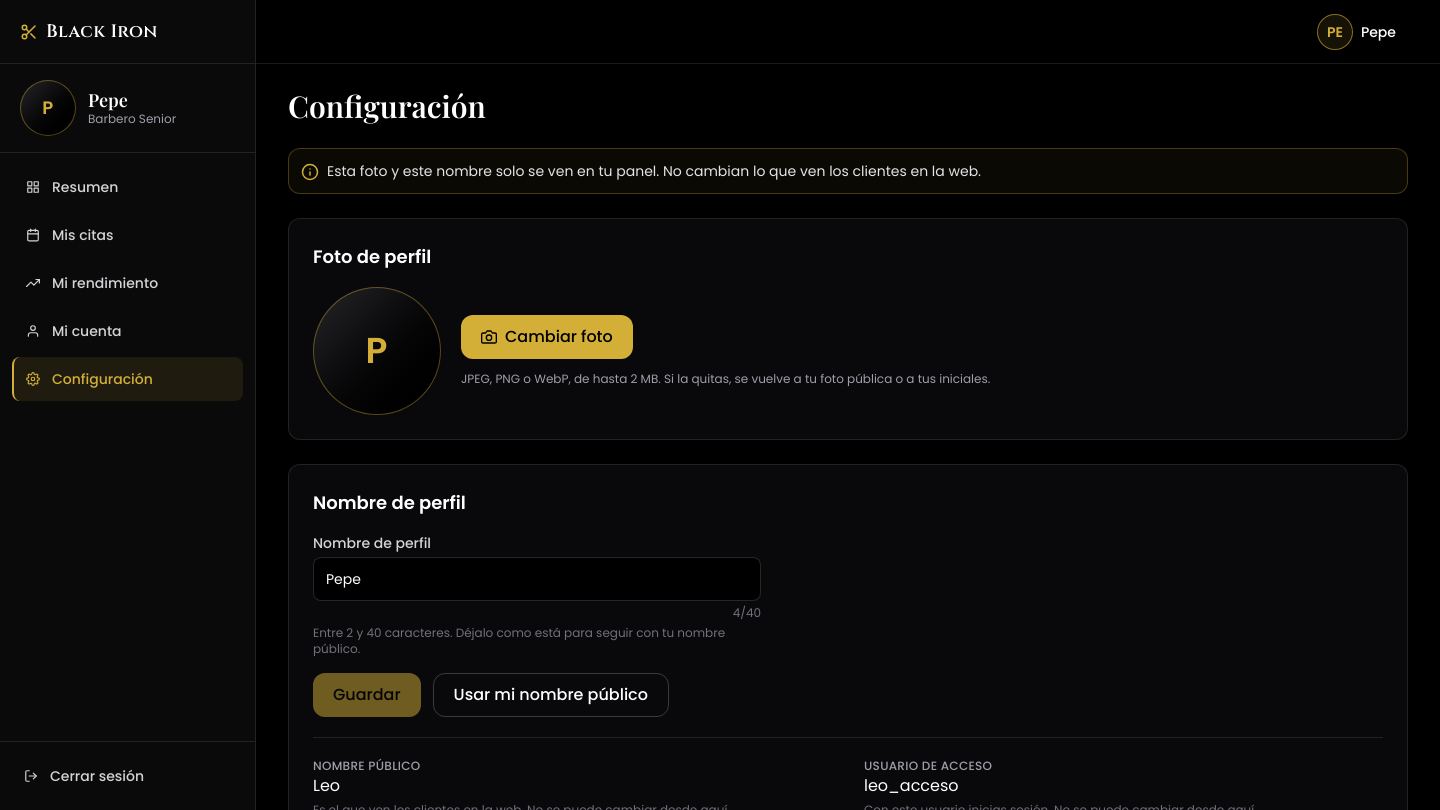
/panel/configuracion (barbero) › "Usar mi nombre público" manda null y vuelve al nombre de la web
The image size is (1440, 810).
Check: the text "Pepe" below "Black Iron" is shown, box [88,88,128,112]
Check: the field labelled "Nombre de perfil" holds "Pepe", box [313,557,761,601]
What coordinates should you click on to do the following:
click the button "Usar mi nombre público"
I would click on:
 (551, 695)
Its box is [433,673,669,717].
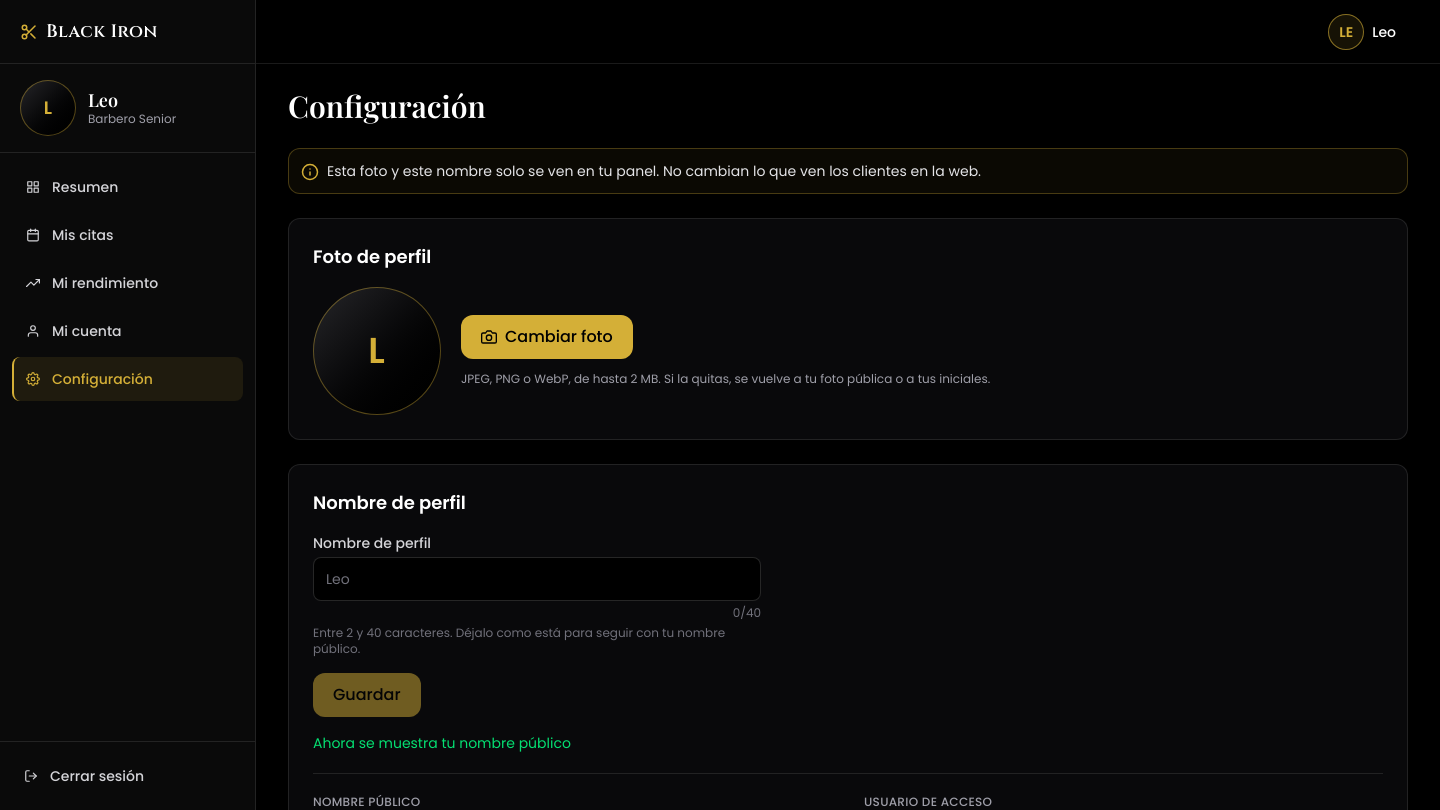
Check: the text "Ahora se muestra tu nombre público" is shown, box [313,733,571,753]
Check: the text "Leo" below "Black Iron" is shown, box [88,88,118,112]
Check: the field labelled "Nombre de perfil" is empty, box [313,557,761,601]
